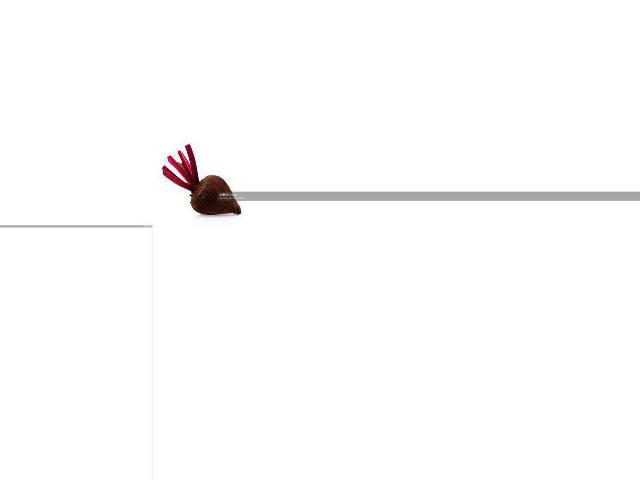beet: (162, 144, 241, 215)
